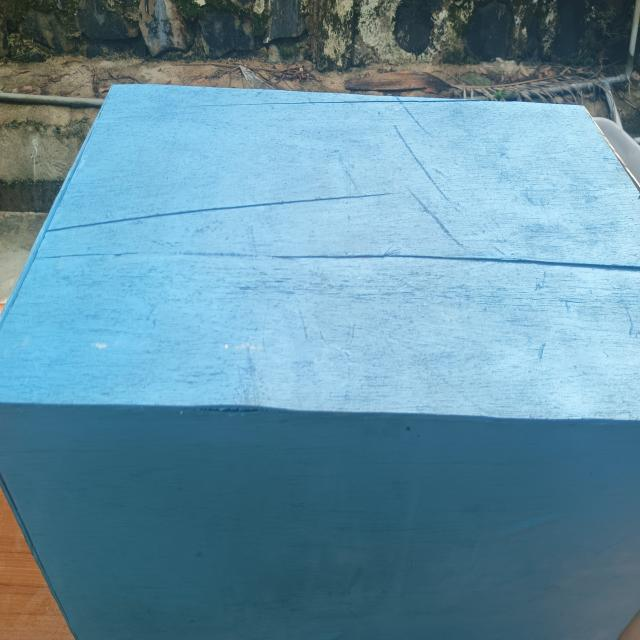blue_box: (0, 79, 626, 640)
